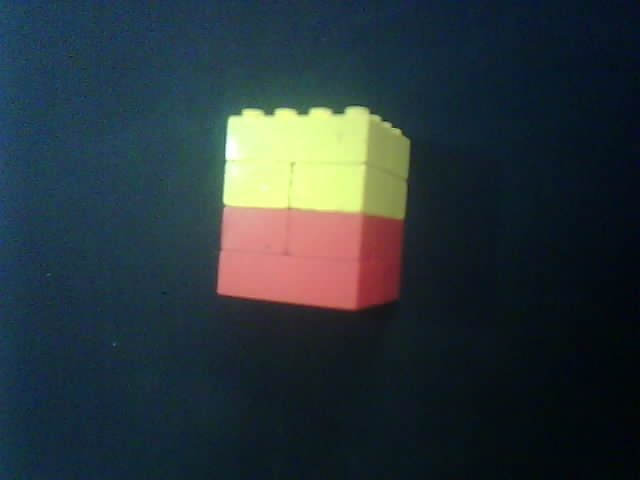lego: (215, 106, 411, 314)
